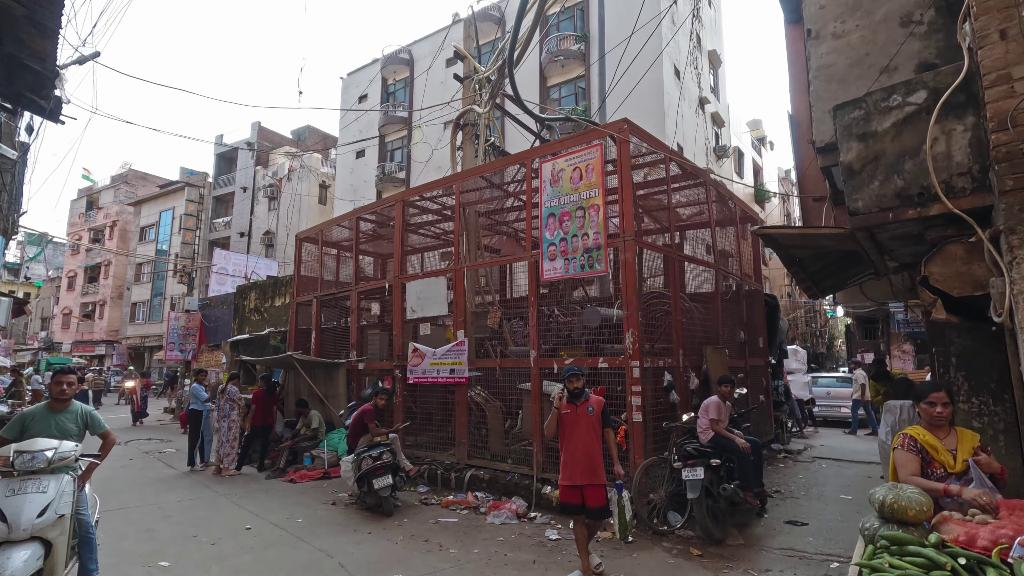garbage: (486, 501, 520, 526), (441, 491, 482, 507), (339, 453, 355, 486), (544, 528, 562, 540), (416, 483, 430, 492)
